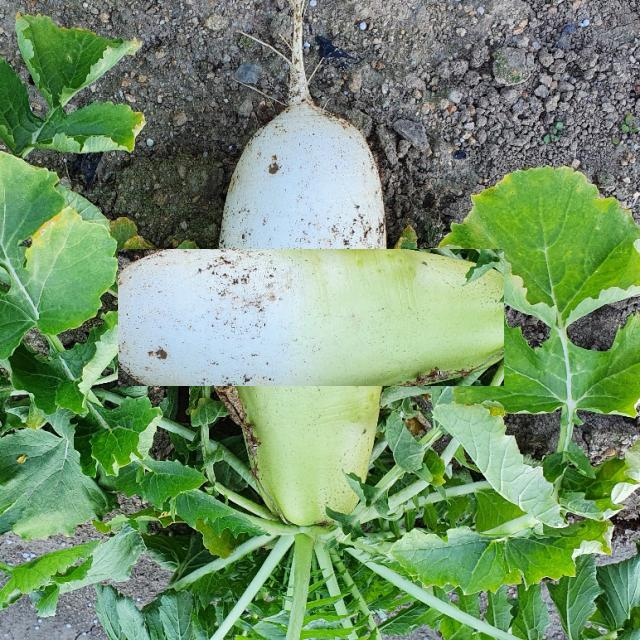radish: (180, 187, 442, 449)
